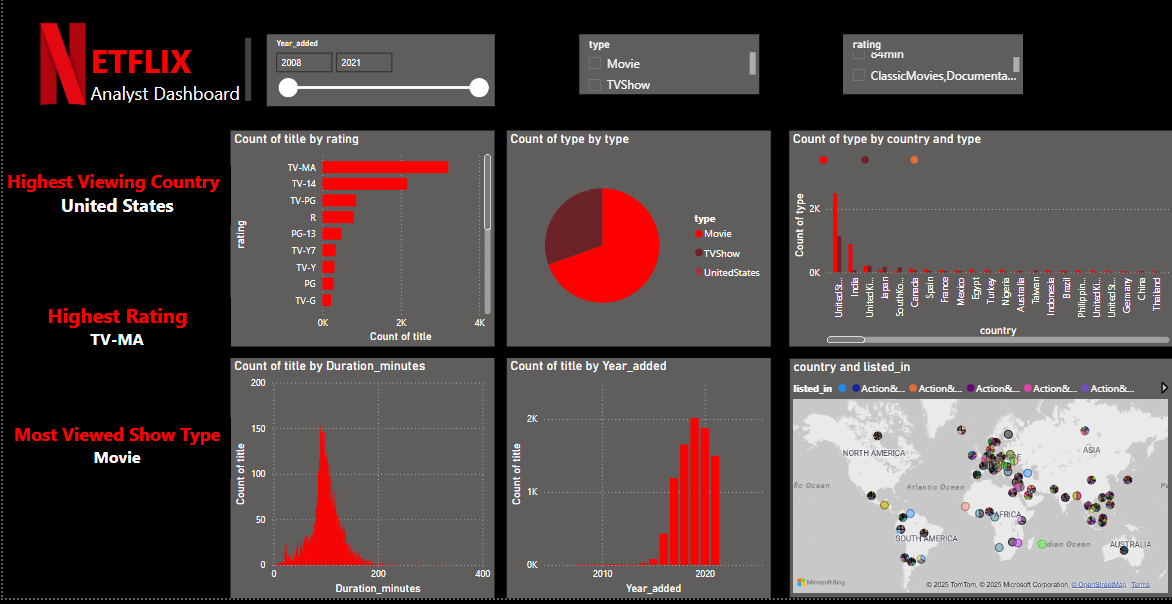

What the dashboard file says about the page in this screenshot:
{"tool":"powerbi","page":{"name":"Page 1","canvas":[1560,800],"ordinal":0},"visuals":[{"type":"pieChart","fields":{"Category":["Cleaned_Netflix.type"],"Y":["CountNonNull(Cleaned_Netflix.type)"]},"box":[672,176,352,288],"z":0},{"type":"clusteredColumnChart","fields":{"Category":["Cleaned_Netflix.country"],"Series":["Cleaned_Netflix.type"],"Y":["CountNonNull(Cleaned_Netflix.type)"]},"box":[1048,176,512,288],"z":1000},{"type":"clusteredColumnChart","fields":{"Category":["Cleaned_Netflix.Year_added"],"Y":["CountNonNull(Cleaned_Netflix.title)"]},"box":[672,480,352,320],"z":2000},{"type":"map","fields":{"Category":["Cleaned_Netflix.country"],"Series":["Cleaned_Netflix.listed_in"]},"box":[1048,480,512,320],"z":3000},{"type":"clusteredBarChart","fields":{"Category":["Cleaned_Netflix.rating"],"Y":["CountNonNull(Cleaned_Netflix.title)"]},"box":[304,176,352,288],"z":4000},{"type":"clusteredColumnChart","fields":{"Y":["CountNonNull(Cleaned_Netflix.title)"],"Category":["Cleaned_Netflix.Duration_minutes"]},"box":[304,480,352,320],"z":5000},{"type":"image","box":[0,0,160,176],"z":6000},{"type":"textbox","box":[112,48,224,96],"z":7000},{"type":"textbox","box":[0,224,304,80],"z":8000},{"type":"textbox","box":[0,400,304,80],"z":9000},{"type":"textbox","box":[0,560,304,80],"z":10000},{"type":"slicer","fields":{"Values":["Cleaned_Netflix.Year_added"]},"box":[352,48,272,96],"z":11000},{"type":"slicer","fields":{"Values":["Cleaned_Netflix.type"]},"box":[784,48,240,96],"z":11001},{"type":"slicer","fields":{"Values":["Cleaned_Netflix.rating"]},"box":[1168,48,224,96],"z":11002}]}

Visuals, with their boxes in screenshot pixels (x1, y1, x2, y2), scaled from the page's 1560x800 canvas onto the 1172x604 screenshot:
pieChart - Cleaned_Netflix.type x CountNonNull(Cleaned_Netflix.type): [505, 133, 769, 350]
clusteredColumnChart - Cleaned_Netflix.country x Cleaned_Netflix.type: [787, 133, 1171, 350]
clusteredColumnChart - Cleaned_Netflix.Year_added x CountNonNull(Cleaned_Netflix.title): [505, 362, 769, 603]
map - Cleaned_Netflix.country x Cleaned_Netflix.listed_in: [787, 362, 1171, 603]
clusteredBarChart - Cleaned_Netflix.rating x CountNonNull(Cleaned_Netflix.title): [228, 133, 493, 350]
clusteredColumnChart - CountNonNull(Cleaned_Netflix.title) x Cleaned_Netflix.Duration_minutes: [228, 362, 493, 603]
image: [0, 0, 120, 133]
textbox: [84, 36, 252, 109]
textbox: [0, 169, 228, 230]
textbox: [0, 302, 228, 362]
textbox: [0, 423, 228, 483]
slicer - Cleaned_Netflix.Year_added: [264, 36, 469, 109]
slicer - Cleaned_Netflix.type: [589, 36, 769, 109]
slicer - Cleaned_Netflix.rating: [877, 36, 1046, 109]
